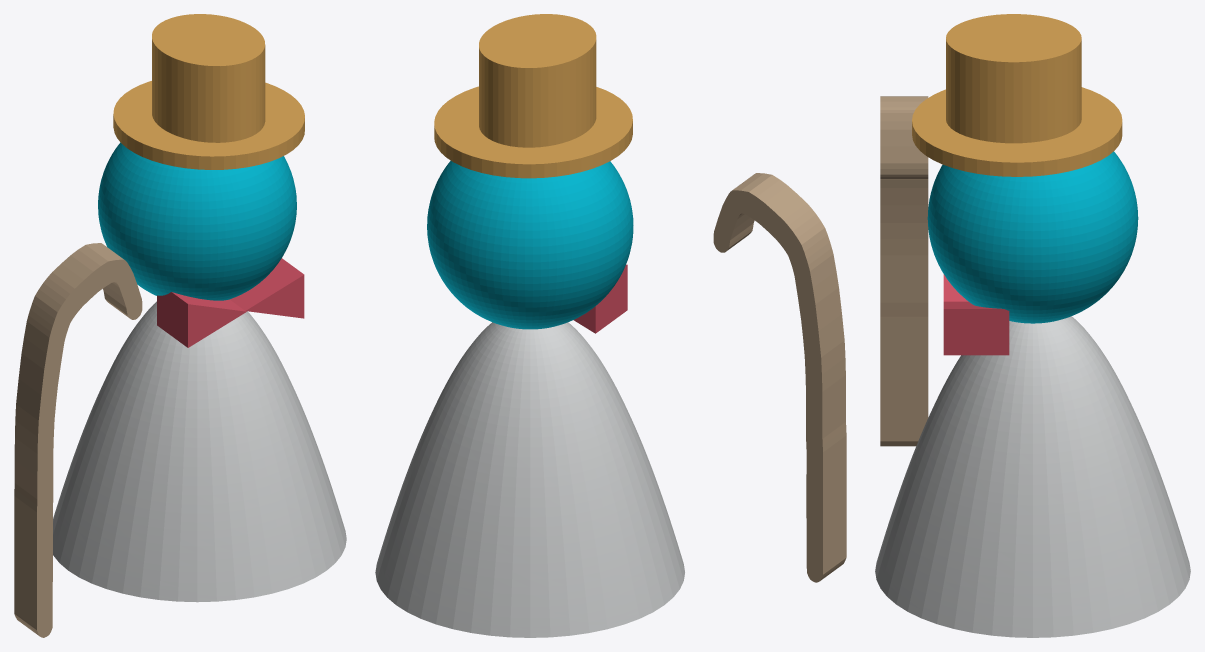
The model's file is NPCHallway.glb.
3 renders of one model, left to right at view 1: azimuth 30°, elevation 25°; view 2: azimuth 150°, elevation 25°; view 3: azimuth 270°, elevation 25°, orthographic. The views are drawn at different scales.
Visible parts, largest first — view 1: Mesh_Mesh_head_geo.001_lambert2SG.001; view 2: Mesh_Mesh_head_geo.001_lambert2SG.001; view 3: Mesh_Mesh_head_geo.001_lambert2SG.001.
Part boxes in pixels (x1,y1,x2,y2): Mesh_Mesh_head_geo.001_lambert2SG.001: [14, 14, 346, 637]; Mesh_Mesh_head_geo.001_lambert2SG.001: [375, 14, 846, 637]; Mesh_Mesh_head_geo.001_lambert2SG.001: [875, 14, 1190, 637].
Bounding box in the file's own units: 0.042 × 0.056 × 0.03.
